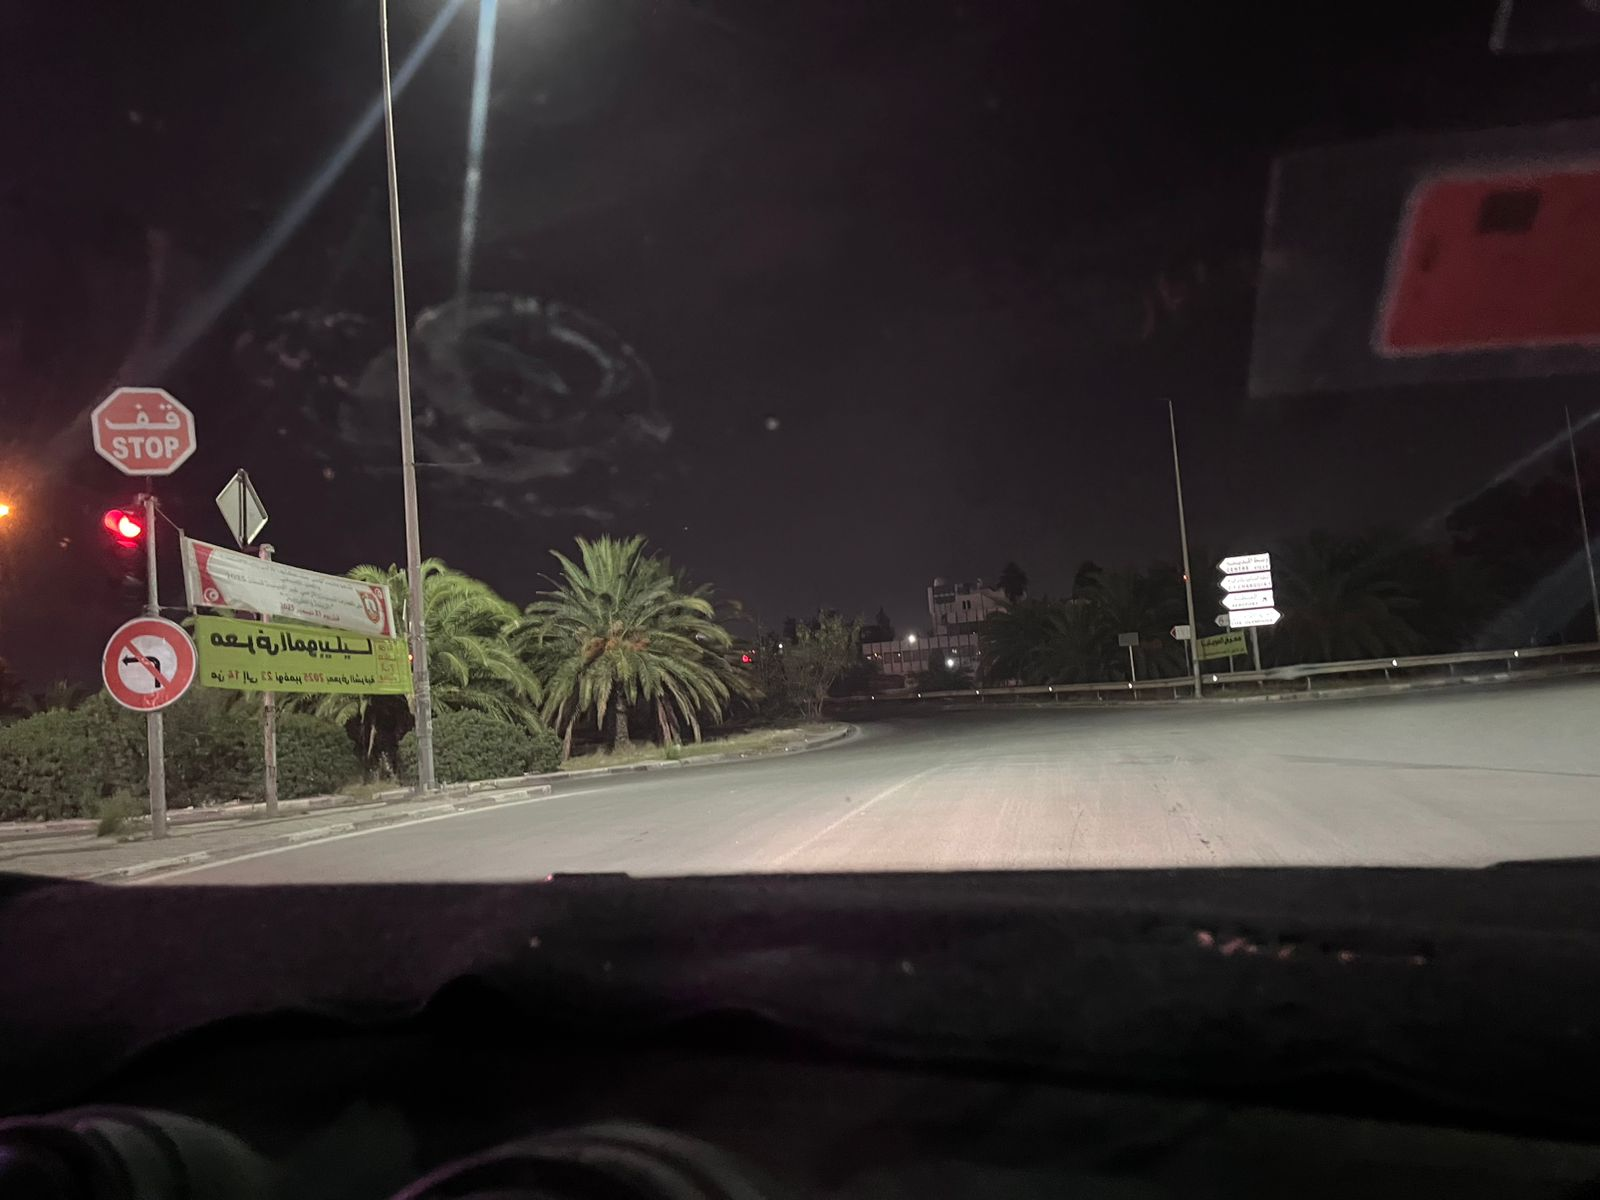RedLight: (98, 502, 161, 601)
Stop: (89, 386, 199, 478)
